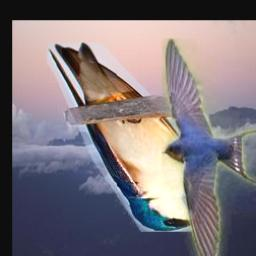Swallow: (48, 44, 207, 233), (163, 39, 256, 256)
